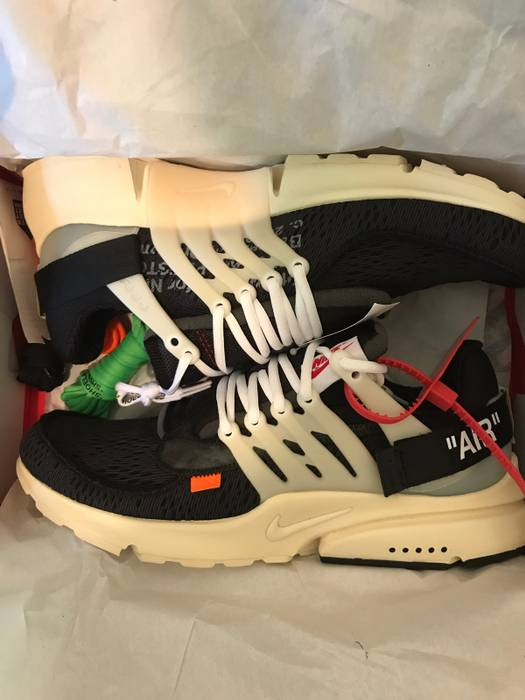Nike x OFF--WHITE Air Presto OG: (11, 318, 518, 576), (14, 140, 525, 387)
